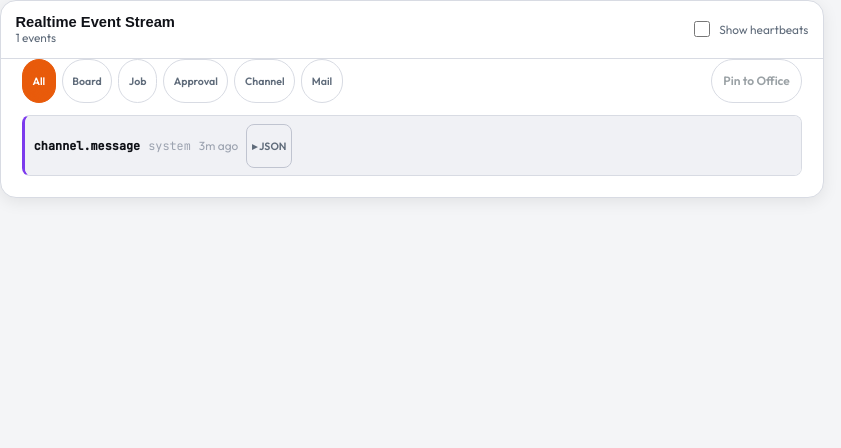
Test: EventsPage parity › expands and collapses JSON with recursive secret redaction applied
Click the button with class "mc-event-expand". click: point(269, 146)
box: [246,124,292,168]
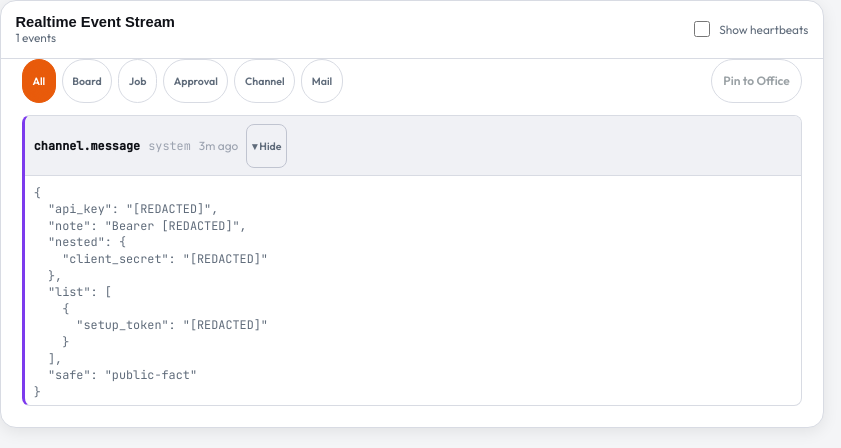
Result: the button with class "mc-event-expand" is expanded
Result: the text with class "mc-event-payload" shows "[REDACTED]" at [34,185,268,400]
Result: the text with class "mc-event-payload" shows "public-fact" at [34,185,268,400]
Click the button with class "mc-event-expand". click: point(267, 146)
box: [246,124,287,168]
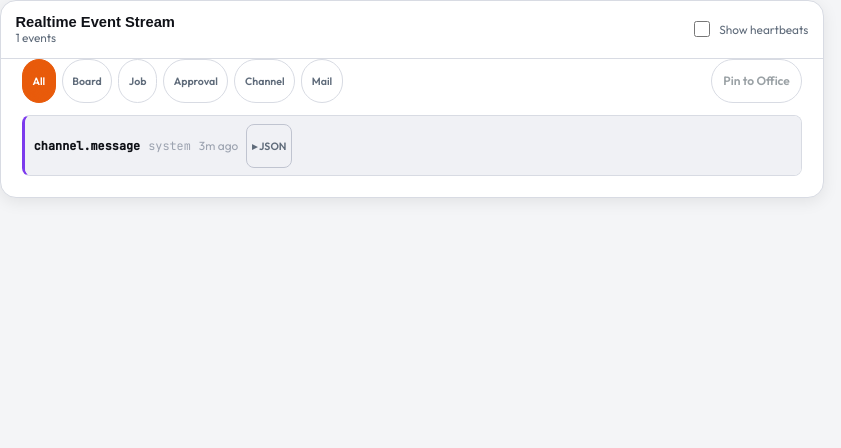
Result: the text with class "mc-event-payload" is gone
Result: the button with class "mc-event-expand" is collapsed at [246,124,292,168]
